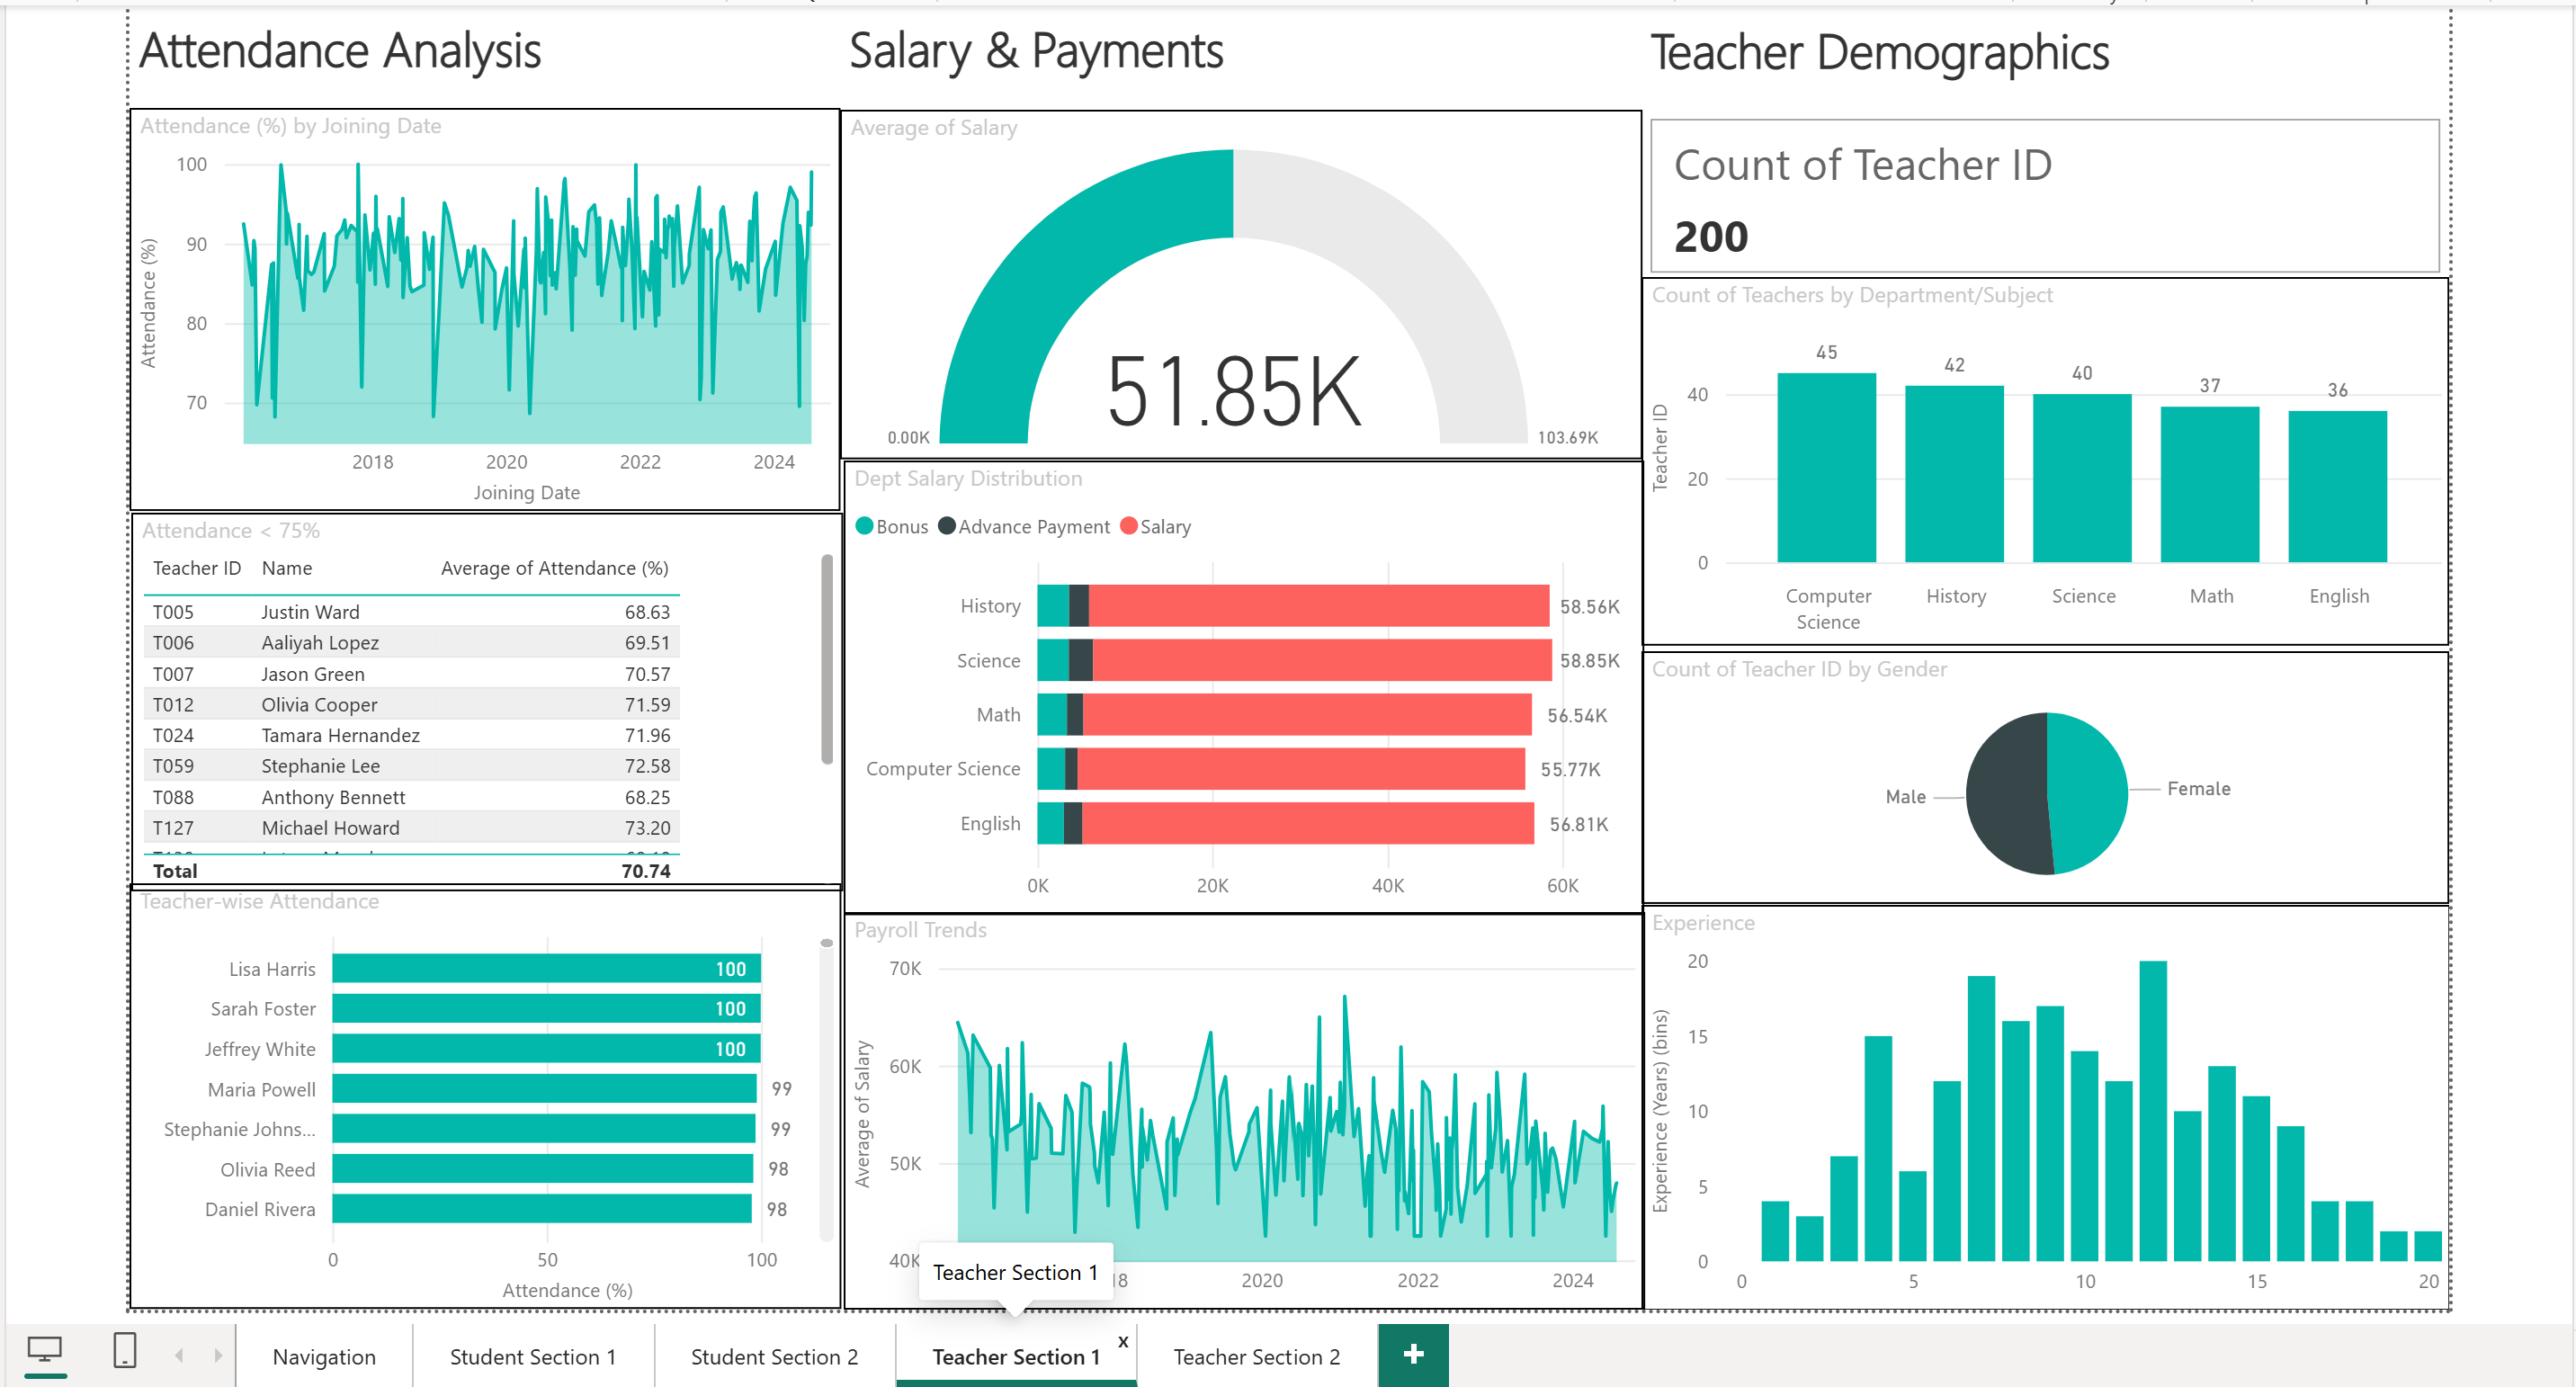

Layout of this report page (visuals, bound fields, positions):
{"tool":"powerbi","page":{"name":"Teacher Section 1","canvas":[1280,720],"ordinal":3},"visuals":[{"type":"textbox","box":[0,0,392.5,56.3],"z":0,"group":"g1"},{"type":"lineChart","fields":{"Category":["Teachers Section.Joining Date"],"Y":["Avg(Teachers Section.Attendance (%))"]},"box":[0,56.3,392.5,222.6],"z":1000,"group":"g1"},{"type":"clusteredBarChart","title":"Teacher-wise Attendance","fields":{"Category":["Teachers Section.Name"],"Y":["Avg(Teachers Section.Attendance (%))"]},"box":[0,485,393,235],"z":2000,"group":"g1"},{"type":"tableEx","title":"Attendance < 75%","fields":{"Values":["Teachers Section.Teacher ID","Teachers Section.Name","Avg(Teachers Section.Attendance (%))"]},"box":[0.9,279.6,393,209],"z":3000,"group":"g1"},{"type":"textbox","box":[392.5,0,441.4,56.3],"z":4000,"group":"g1"},{"type":"gauge","fields":{"Y":["Avg(Teachers Section.Salary)"]},"box":[392.5,57.5,442.7,193.2],"z":5000,"group":"g1"},{"type":"barChart","title":"Dept Salary Distribution","fields":{"Category":["Teachers Section.Department/Subject"],"Y":["Avg(Teachers Section.Bonus)","Avg(Teachers Section.Advance Payment)","Avg(Teachers Section.Salary)"]},"box":[393.9,250.8,441.3,250.8],"z":6000,"group":"g1"},{"type":"lineChart","title":"Payroll Trends","fields":{"Category":["Teachers Section.Joining Date"],"Y":["Avg(Teachers Section.Salary)"]},"box":[393.9,500.7,442.2,219.3],"z":7000,"group":"g1"},{"type":"textbox","box":[834,1.2,446.3,56.3],"z":8000,"group":"g1"},{"type":"cardVisual","fields":{"Data":["Count(Teachers Section.Teacher ID)"]},"box":[834,57.5,446.3,95.4],"z":9000,"group":"g1"},{"type":"pieChart","fields":{"Y":["CountNonNull(Teachers Section.Teacher ID)"],"Series":["Teachers Section.Gender"]},"box":[834.3,356.7,445.9,139.4],"z":10000,"group":"g1"},{"type":"columnChart","title":"Count of Teachers by Department/Subject","fields":{"Category":["Teachers Section.Department/Subject"],"Y":["CountNonNull(Teachers Section.Teacher ID)"]},"box":[834.3,149.6,445.9,203.5],"z":11000,"group":"g1"},{"type":"clusteredColumnChart","title":"Experience","fields":{"Category":["Teachers Section.Experience (Years)"],"Y":["CountNonNull(Teachers Section.Experience (Years) (bins))"]},"box":[834,496.5,446.3,223.8],"z":12000,"group":"g1"},{"type":"group","id":"g1","title":"Teacher Section 1","box":[0,0,1280.3,720.2],"z":12001}]}

Visuals, with their boxes on the page's 1280x720 design canvas (x1, y1, x2, y2). These are canvas units, not pixel positions in the 2576x1387 screenshot, which may show the page scaled, cropped or inside an application window:
textbox: bbox=(0, 0, 392, 56)
lineChart - Teachers Section.Joining Date x Avg(Teachers Section.Attendance (%)): bbox=(0, 56, 392, 279)
"Teacher-wise Attendance" clusteredBarChart: bbox=(0, 485, 393, 720)
"Attendance < 75%" tableEx: bbox=(1, 280, 394, 489)
textbox: bbox=(392, 0, 834, 56)
gauge - Avg(Teachers Section.Salary): bbox=(392, 58, 835, 251)
"Dept Salary Distribution" barChart: bbox=(394, 251, 835, 502)
"Payroll Trends" lineChart: bbox=(394, 501, 836, 720)
textbox: bbox=(834, 1, 1280, 58)
cardVisual - Count(Teachers Section.Teacher ID): bbox=(834, 58, 1280, 153)
pieChart - CountNonNull(Teachers Section.Teacher ID) x Teachers Section.Gender: bbox=(834, 357, 1280, 496)
"Count of Teachers by Department/Subject" columnChart: bbox=(834, 150, 1280, 353)
"Experience" clusteredColumnChart: bbox=(834, 496, 1280, 720)
"Teacher Section 1" group: bbox=(0, 0, 1280, 720)
